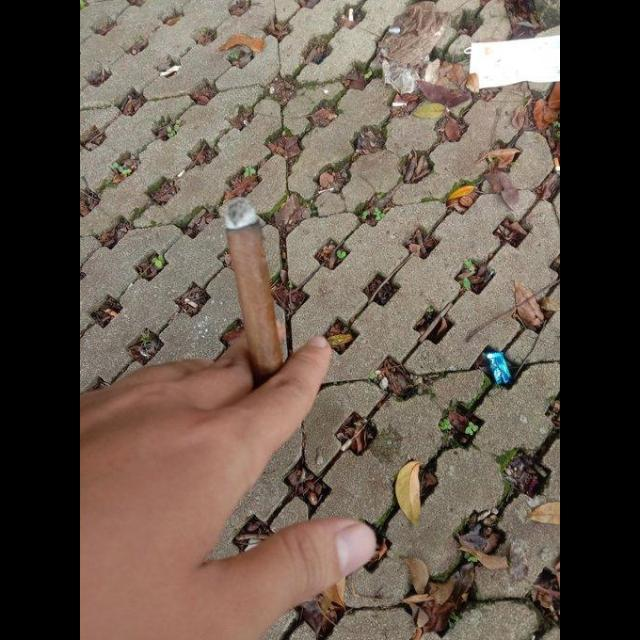rokok: (216, 192, 288, 378)
